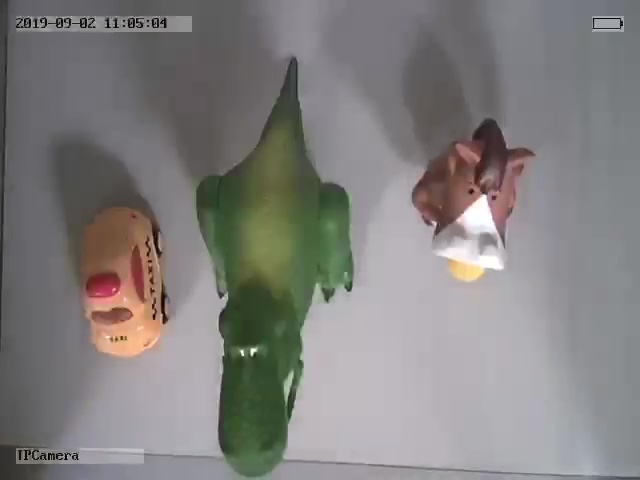car: (79, 205, 172, 359)
horse: (412, 118, 535, 287)
rex: (195, 71, 355, 478)
